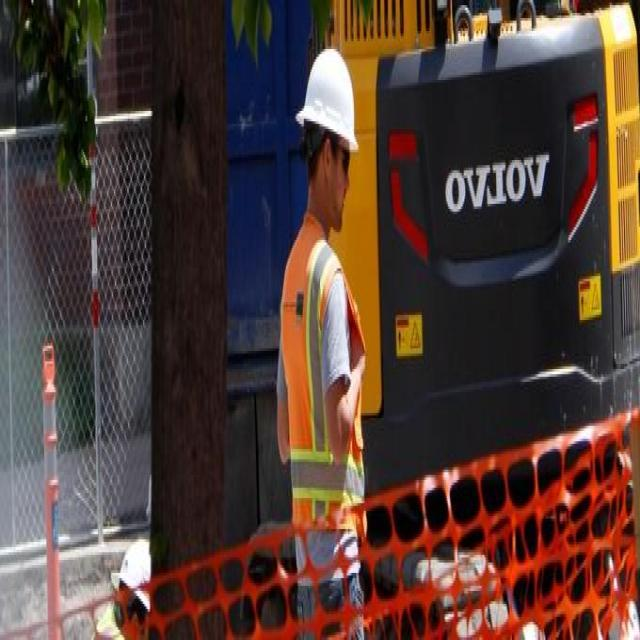reflective_jacket: (275, 214, 370, 536)
safety_helmet: (294, 41, 360, 159), (109, 523, 159, 624)
